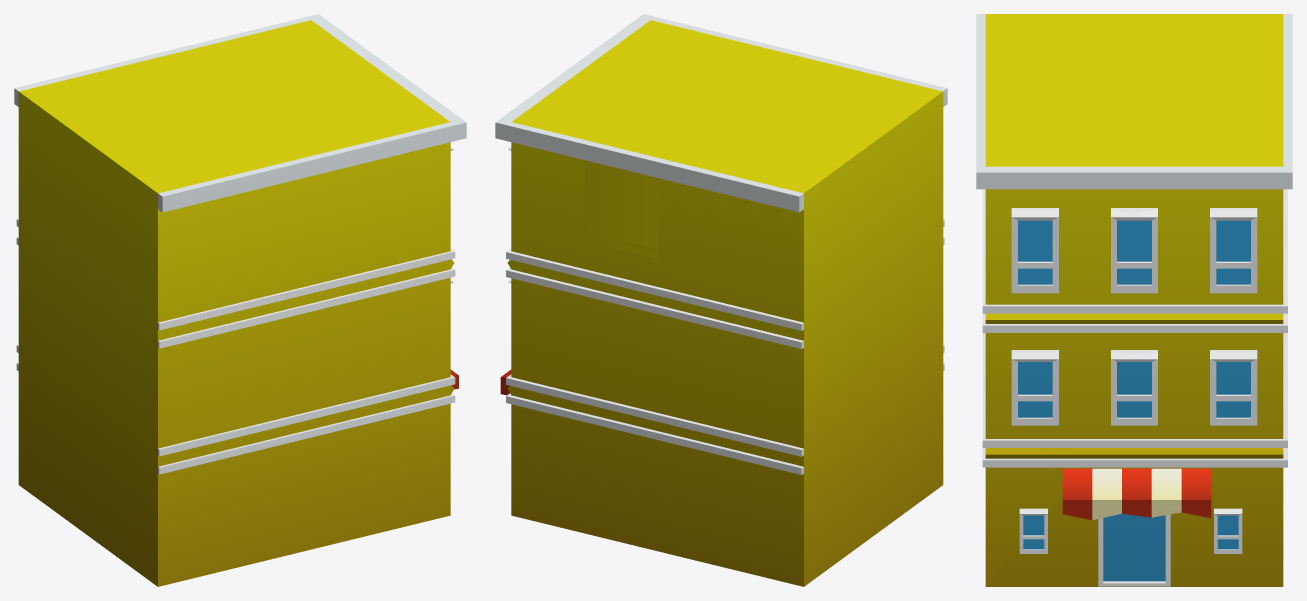
Rendered from PLAYER_YELLOW_building.glb.
The picture shows the model from 3 angles, left to right: view 1: azimuth 30°, elevation 25°; view 2: azimuth 150°, elevation 25°; view 3: azimuth 270°, elevation 25°; orthographic projection. The views are drawn at different scales.
Parts seen in each view (by area): view 1: Cube.002; view 2: Cube.002; view 3: Cube.002, Cube.003.
Part boxes in pixels (box(x1,y1,x2,y2)): Cube.002: box(14, 14, 466, 586); Cube.002: box(495, 14, 947, 586); Cube.002: box(976, 14, 1292, 586); Cube.003: box(1062, 468, 1211, 520).
Bounding box in the file's own units: 0.5588 × 0.6238 × 0.4257.
2 materials, 2 textured.
